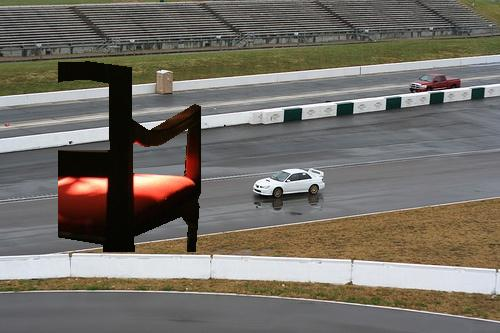tampered: (59, 62, 201, 252)
